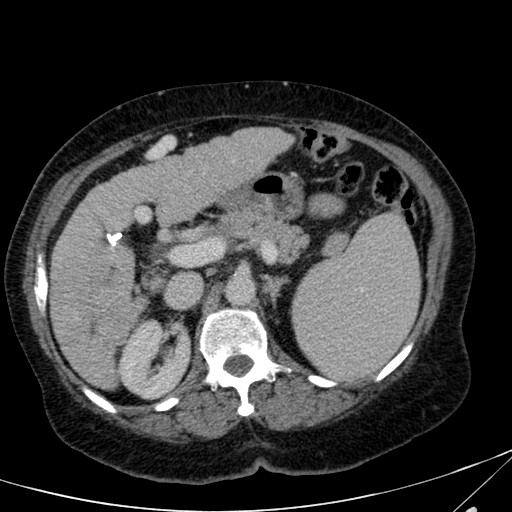clipe: (104, 232, 123, 246)
